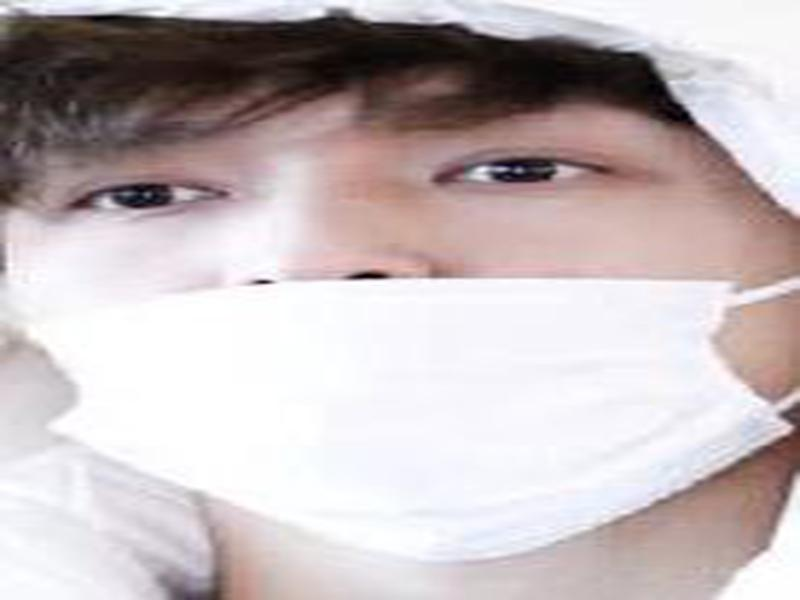with_mask: (1, 1, 800, 566)
